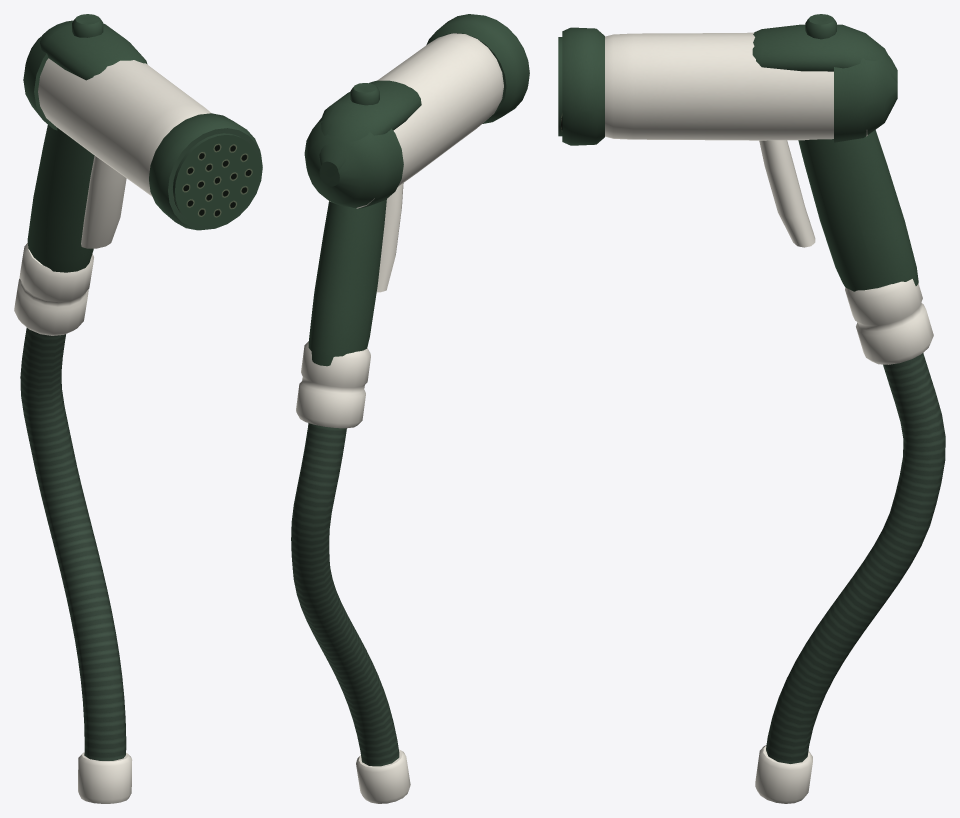
The model's file is Hose.fbx.
3 renders of one model, left to right at view 1: azimuth 30°, elevation 25°; view 2: azimuth 150°, elevation 25°; view 3: azimuth 270°, elevation 25°, orthographic. The views are drawn at different scales.
Visible parts, largest first — view 1: Hose_Mesh, Hose_Tube; view 2: Hose_Mesh, Hose_Tube; view 3: Hose_Mesh, Hose_Tube.
Part boxes in pixels (x1=…): Hose_Mesh: x1=14, y1=14, x2=262, y2=803; Hose_Tube: x1=20, y1=327, x2=126, y2=760; Hose_Mesh: x1=296, y1=14, x2=529, y2=803; Hose_Tube: x1=291, y1=423, x2=399, y2=766; Hose_Mesh: x1=558, y1=14, x2=933, y2=803; Hose_Tube: x1=766, y1=353, x2=945, y2=763.
Bounding box in the file's own units: 0.0672 × 0.4849 × 0.2192.
